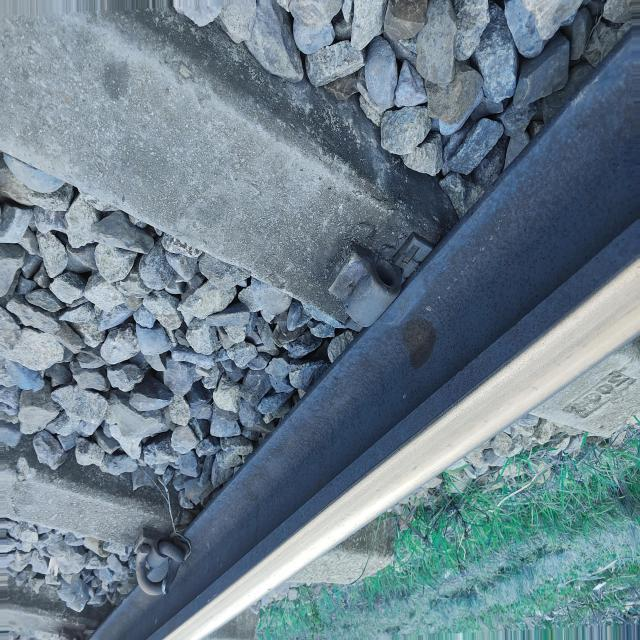Good Fasteners: (134, 527, 192, 596)
Missing Fastener: (314, 237, 421, 331)
